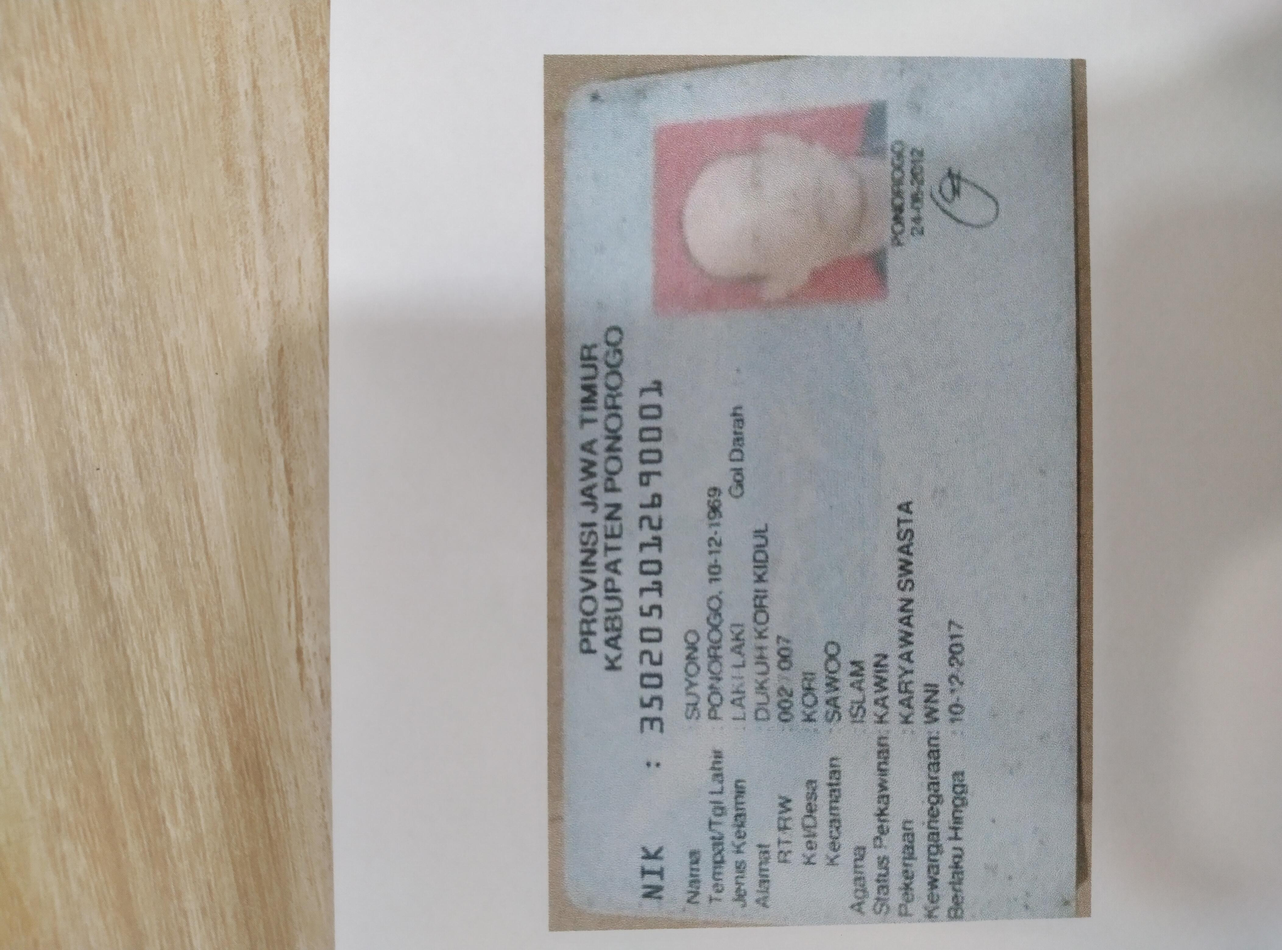ID-card: (34, 421, 1195, 787)
